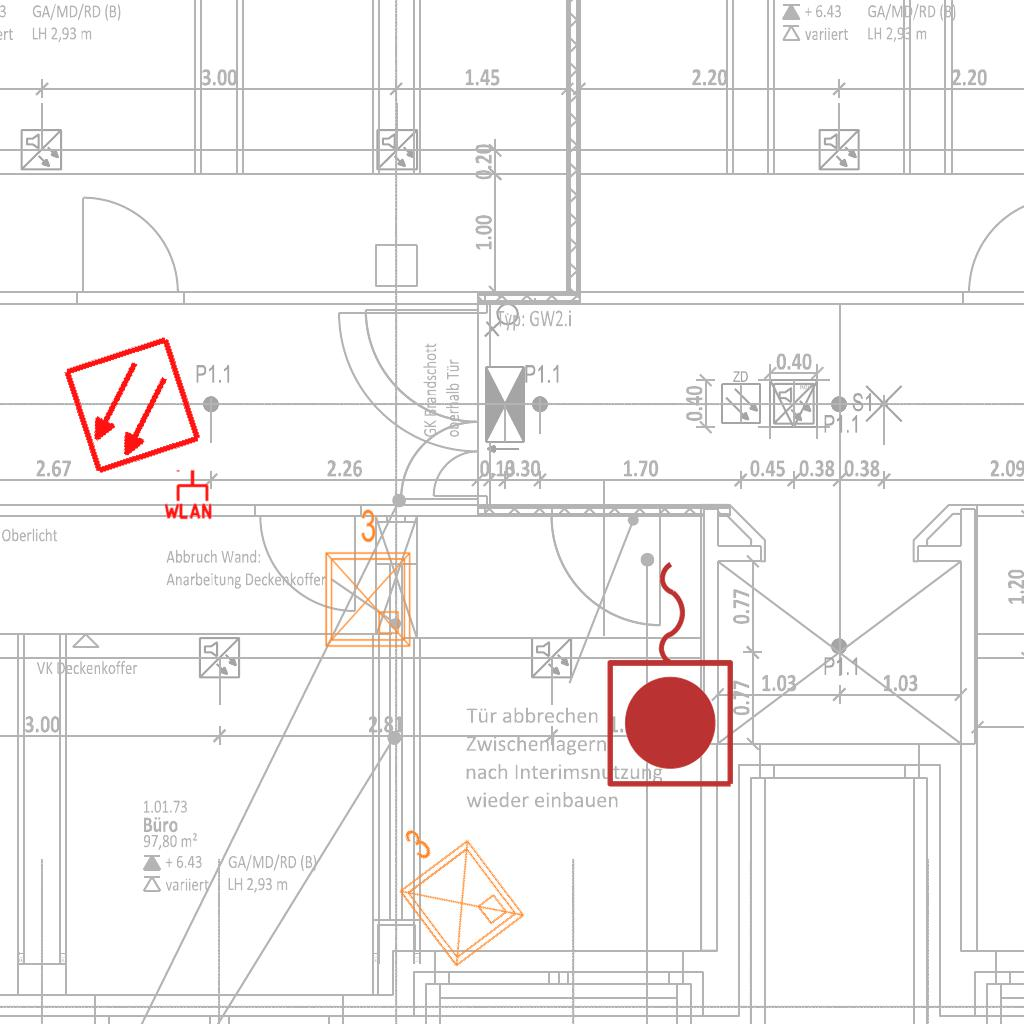Einbaudownlights_LED_Konferenzraeume: (361, 796, 535, 980), (314, 504, 418, 654)
RMO_Rauchmelder_optischer: (61, 334, 204, 477)
WLAN: (162, 468, 214, 520)
Zugtaster: (600, 551, 744, 795)
